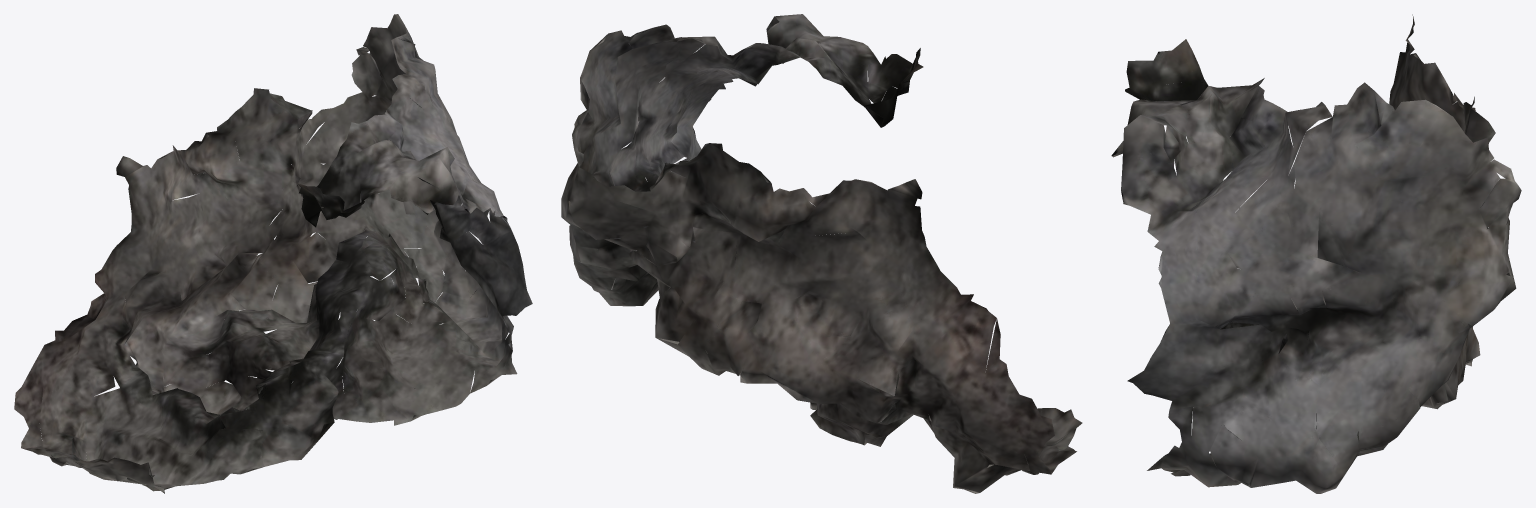
File: rock-aa-clinker-daal.glb
3 renders of one model, left to right at view 1: azimuth 30°, elevation 25°; view 2: azimuth 150°, elevation 25°; view 3: azimuth 270°, elevation 25°, orthographic. The views are drawn at different scales.
Visible parts, largest first — view 1: rock-aa-clinker-daal_LOD0; view 2: rock-aa-clinker-daal_LOD0; view 3: rock-aa-clinker-daal_LOD0.
Part boxes in pixels (x1=…): rock-aa-clinker-daal_LOD0: x1=14, y1=14, x2=532, y2=493; rock-aa-clinker-daal_LOD0: x1=561, y1=14, x2=1082, y2=493; rock-aa-clinker-daal_LOD0: x1=1111, y1=14, x2=1521, y2=493.
Size of what is drawn, in the model's own units: 1.4 by 1.06 by 0.8529.
1 material, 1 textured.
